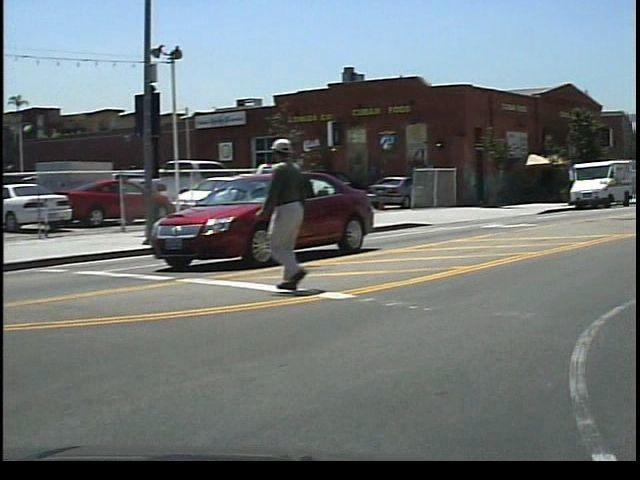person: (263, 135, 340, 300)
